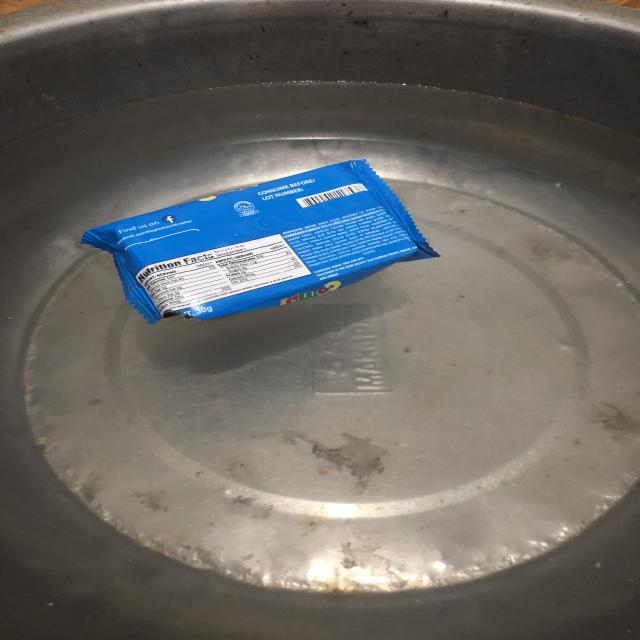Plastic Wrapper: (57, 146, 472, 348)
